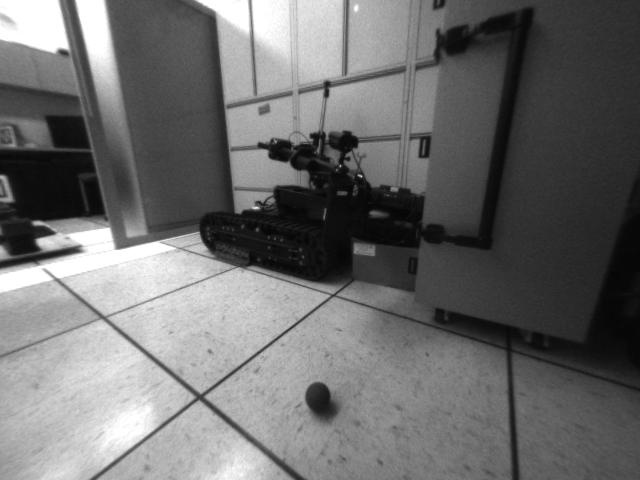dogtoy: (296, 375, 340, 417)
